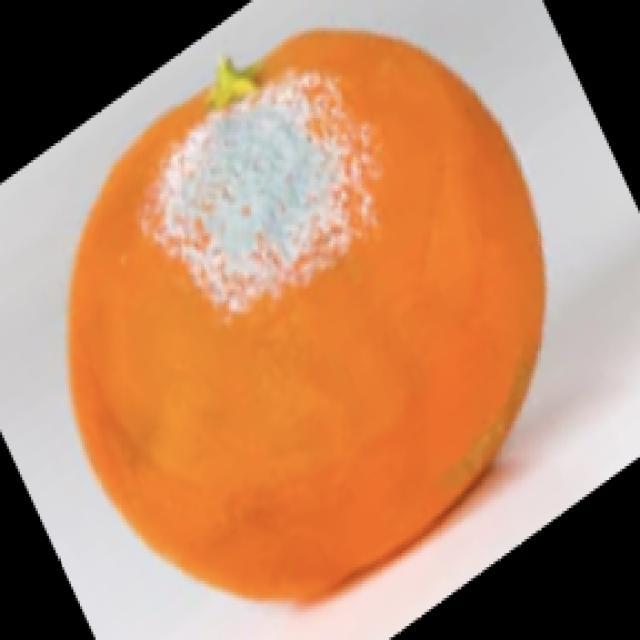sedikit-busuk: (70, 34, 549, 601), (153, 83, 351, 304)
